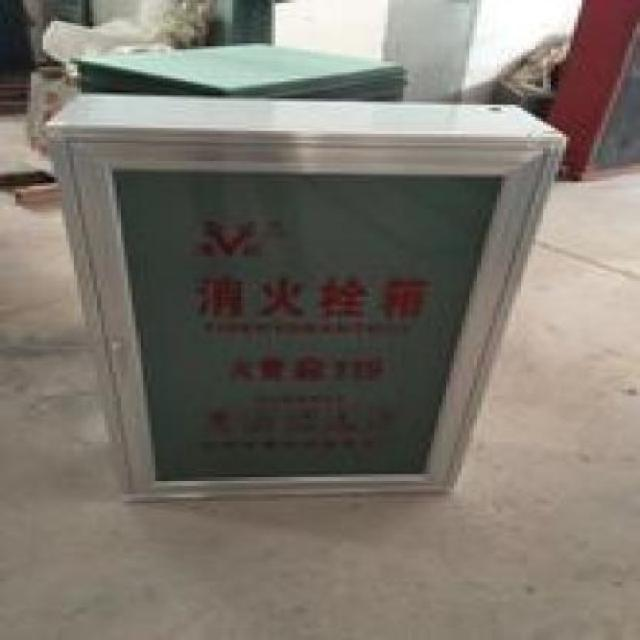firehydrant: (39, 92, 572, 508), (554, 0, 640, 183)
